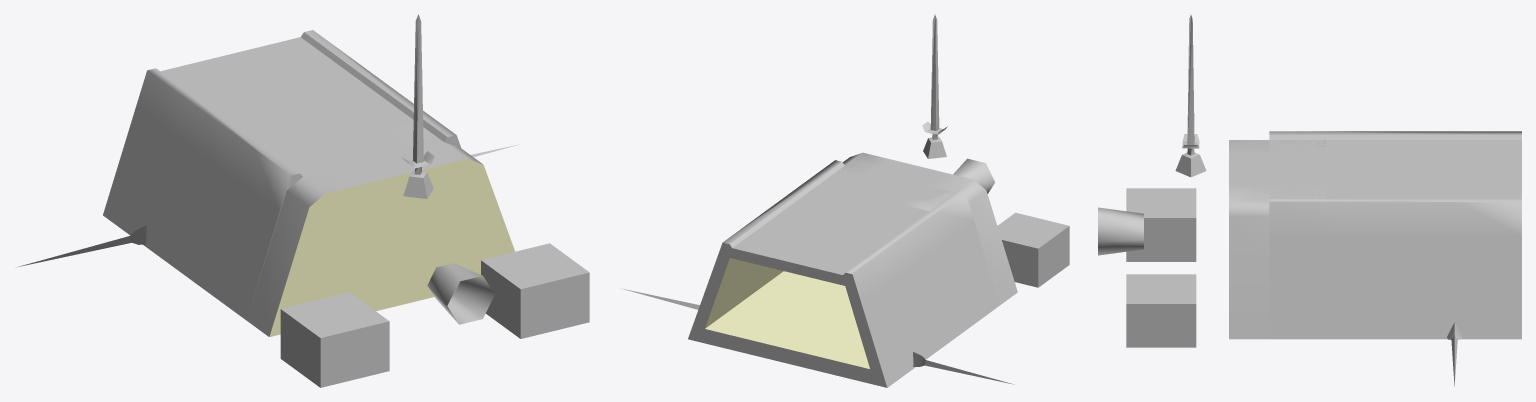
File: ss02_static.obj
The picture shows the model from 3 angles, left to right: view 1: azimuth 30°, elevation 25°; view 2: azimuth 150°, elevation 25°; view 3: azimuth 270°, elevation 25°; orthographic projection. The views are drawn at different scales.
Parts seen in each view (by area): view 1: frm-fuselg, frm-afuselg1, frm-arfuselg, frm-alfuselg, frm-afuselg2, frm-atantenn, frm-frantenn; view 2: frm-fuselg, frm-afuselg1, frm-arfuselg, frm-atantenn, frm-afuselg2, frm-frantenn; view 3: frm-fuselg, frm-afuselg1, frm-alfuselg, frm-arfuselg, frm-afuselg2, frm-atantenn.
Part boxes in pixels (box(x1,y1,x2,y2)): frm-fuselg: box(103, 30, 460, 320); frm-afuselg1: box(246, 121, 514, 337); frm-arfuselg: box(280, 292, 389, 387); frm-alfuselg: box(481, 243, 589, 338); frm-afuselg2: box(427, 263, 494, 324); frm-atantenn: box(402, 14, 434, 198); frm-frantenn: box(17, 225, 146, 267); frm-fuselg: box(688, 160, 999, 387); frm-afuselg1: box(836, 152, 1017, 305); frm-arfuselg: box(997, 212, 1069, 287); frm-atantenn: box(922, 14, 947, 158); frm-afuselg2: box(953, 158, 995, 193); frm-frantenn: box(913, 352, 1013, 384); frm-fuselg: box(1269, 131, 1521, 339); frm-afuselg1: box(1229, 140, 1326, 339); frm-alfuselg: box(1126, 274, 1196, 347); frm-arfuselg: box(1126, 188, 1196, 261); frm-afuselg2: box(1098, 207, 1143, 255); frm-atantenn: box(1175, 15, 1206, 177).
Size of what is drawn, in the model's own units: 23.08 by 13.63 by 18.96.
